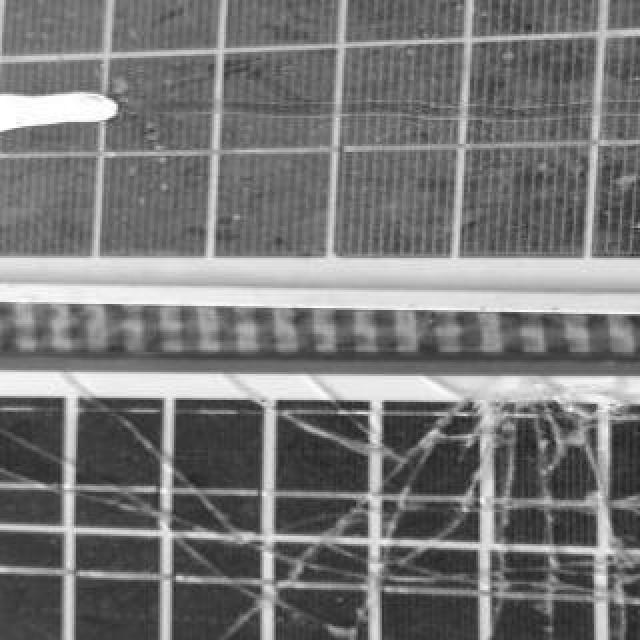Dusty: (2, 0, 640, 280)
Physical-damage: (6, 394, 638, 637), (10, 85, 128, 137)
